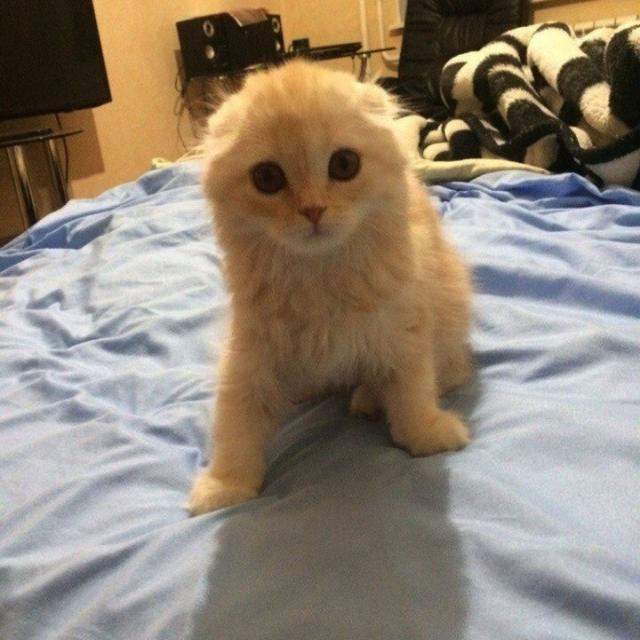da khoe manh: (226, 107, 436, 405)
